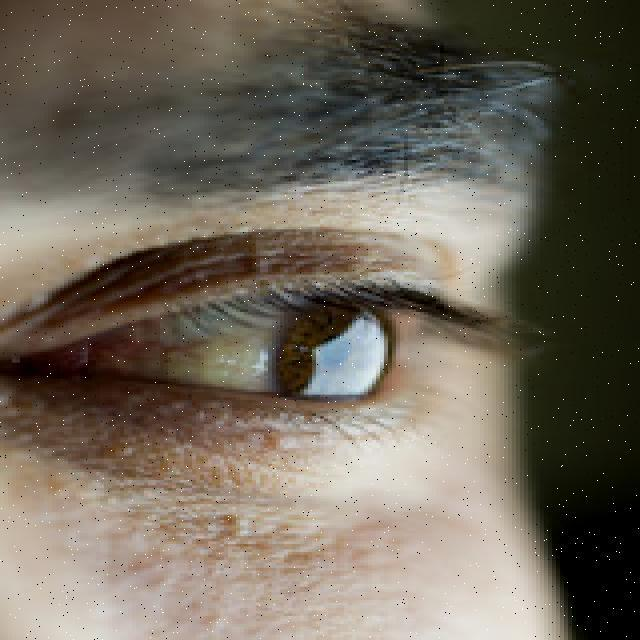Normal: (0, 178, 528, 532)
